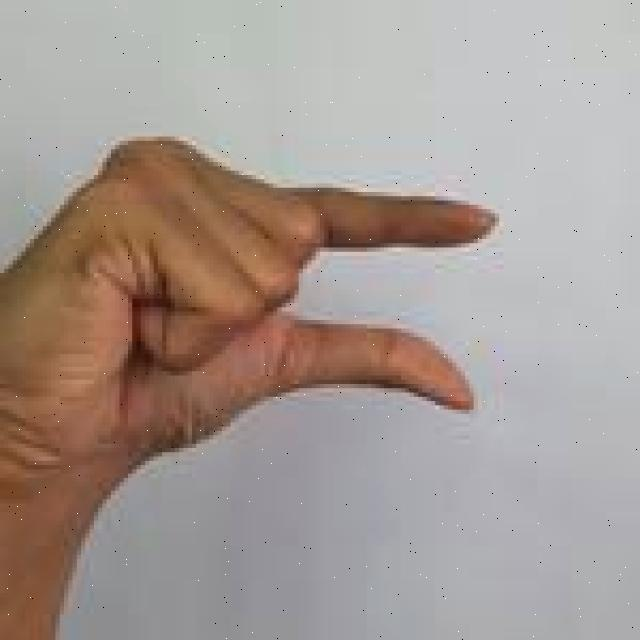G: (0, 135, 499, 640)
